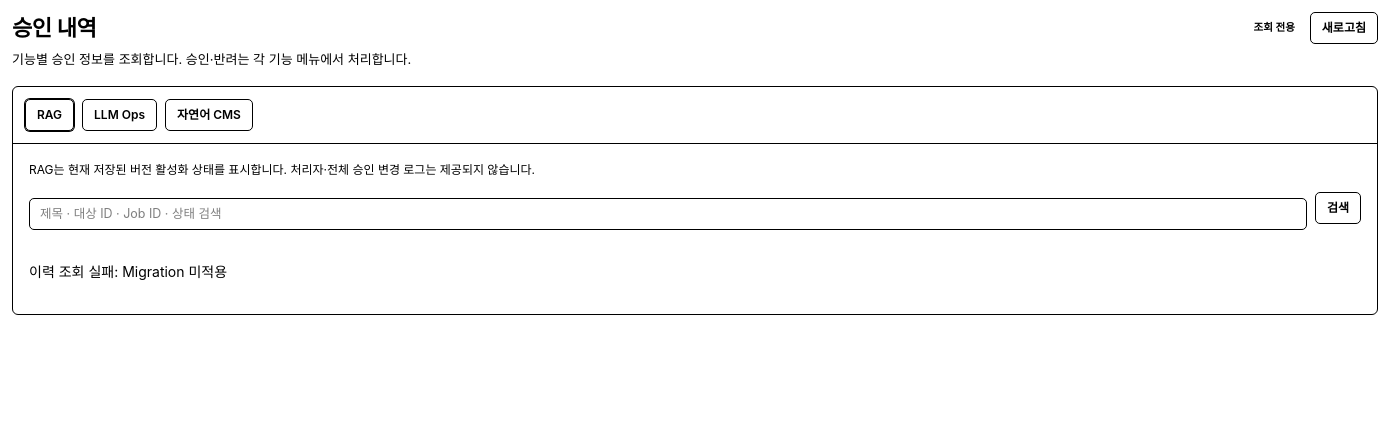
Test case: failures are not presented as an empty successful list and refresh retries
Expected: the message shows "이력 조회 실패", [29,262,122,280]
Expected: the text "조회 조건에 해당하는 이력이 없습니다." is not shown
Click the button "새로고침" at (1344,28), box [1310,12,1378,44]
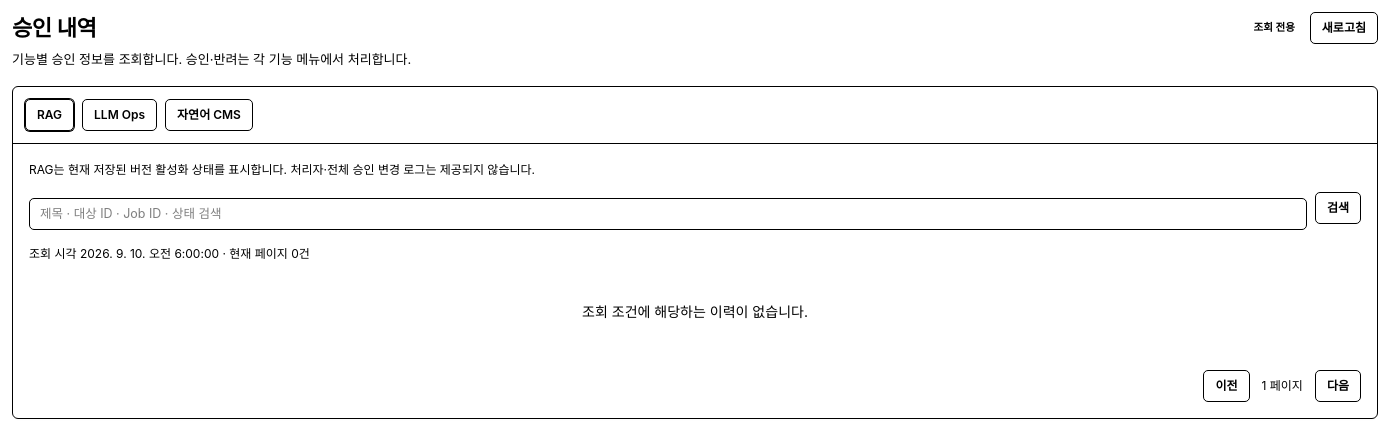
Expected: the text "조회 조건에 해당하는 이력이 없습니다." is shown, [582,302,808,320]
Expected: the message "이력 조회 실패: Migration 미적용" is gone
